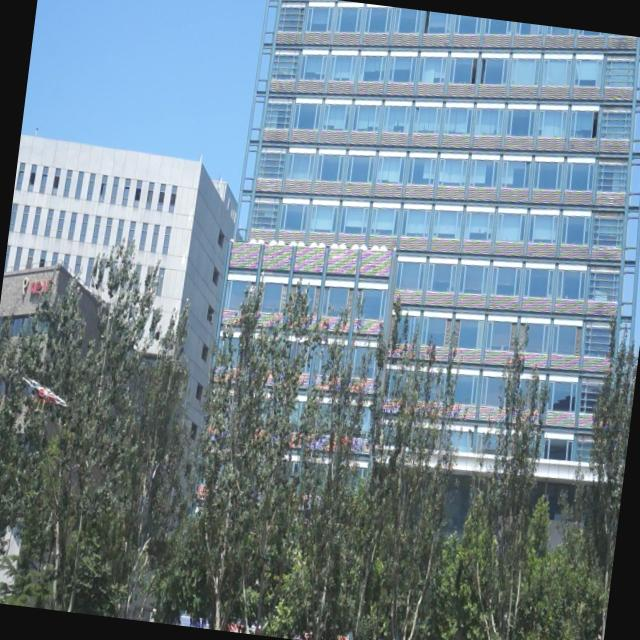drone: (21, 374, 70, 418)
